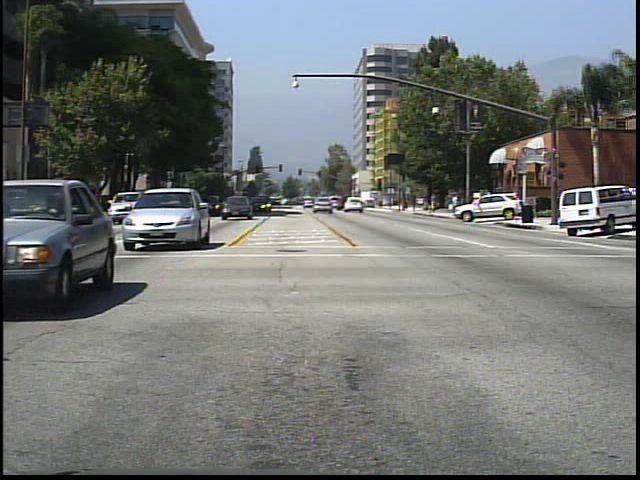person: (450, 189, 465, 219), (429, 191, 440, 214)
